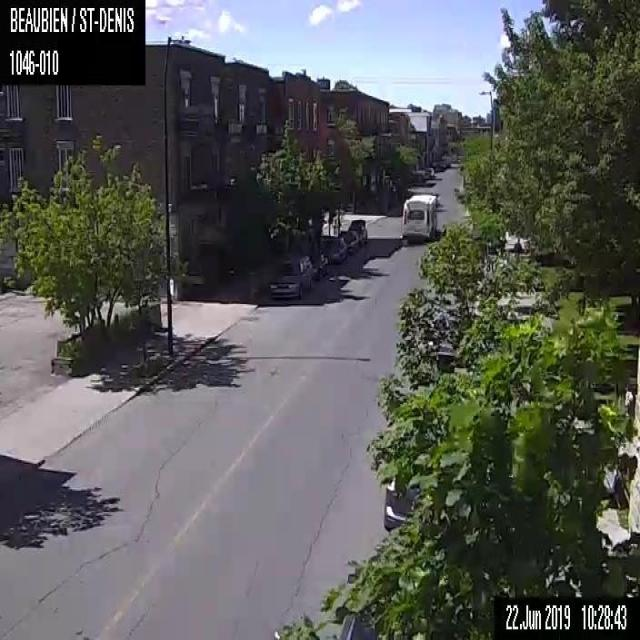bus: (399, 191, 438, 244)
vehicle: (428, 302, 471, 373), (382, 470, 428, 535), (332, 600, 392, 639), (267, 253, 312, 300), (322, 237, 347, 262), (337, 230, 359, 252), (348, 219, 367, 244), (310, 253, 327, 279)
